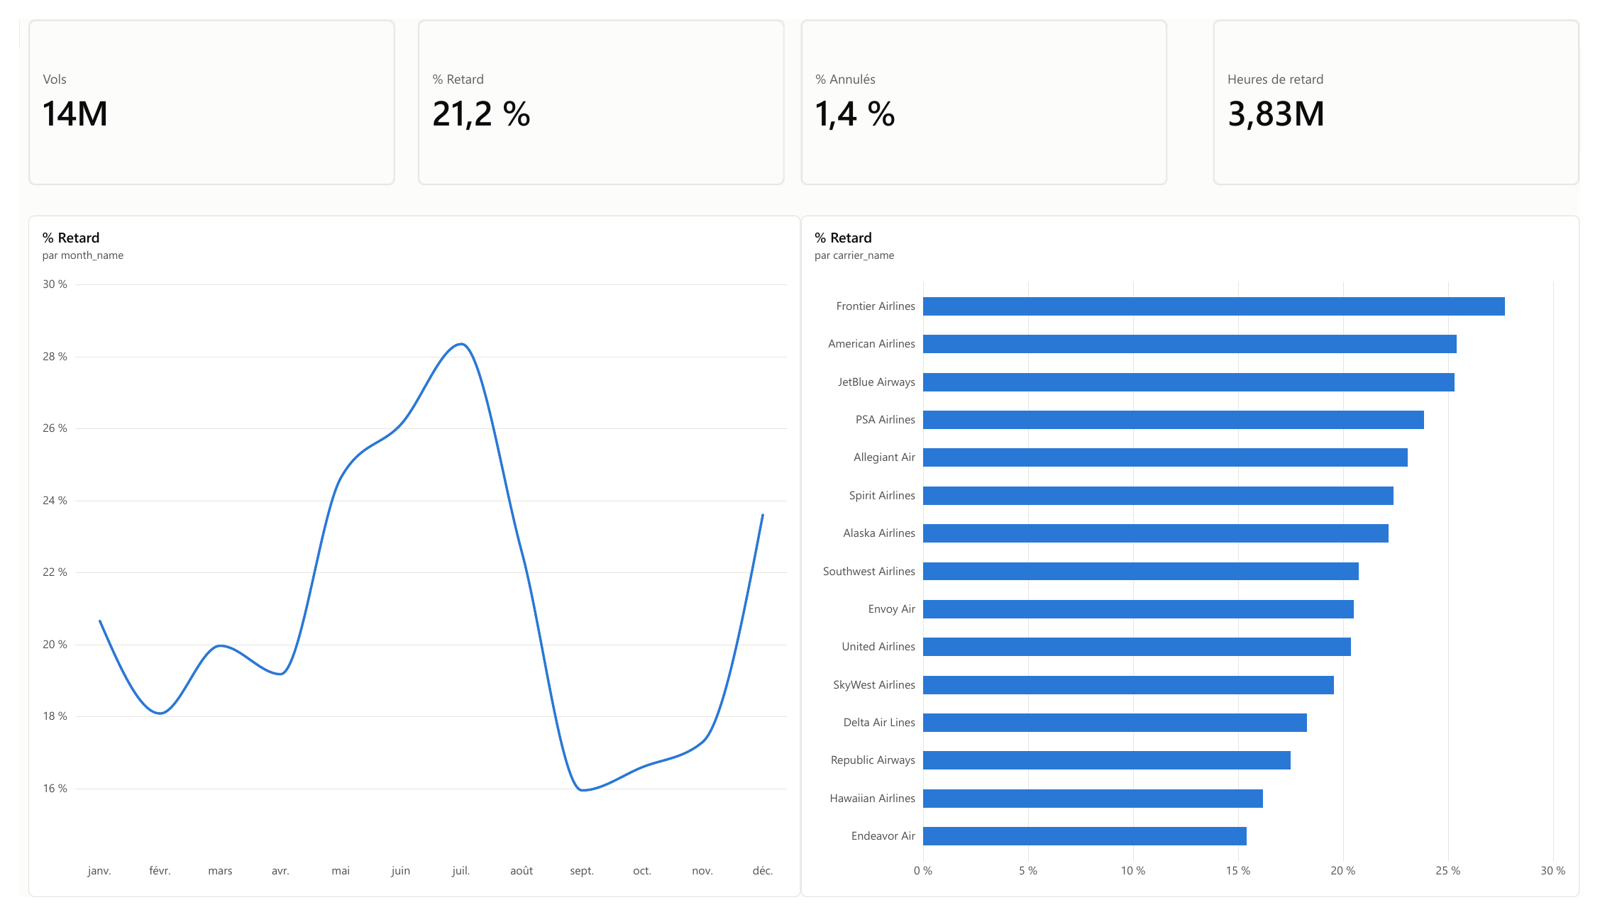

What the dashboard file says about the page in this screenshot:
{"tool":"powerbi","page":{"name":"Vue d'ensemble","canvas":[1920,1080],"ordinal":0},"visuals":[{"type":"cardVisual","fields":{"Data":["fact_flights.Vols"]},"box":[11.3,0,450.7,204.1],"z":0},{"type":"cardVisual","fields":{"Data":["fact_flights.% Retard"]},"box":[490.4,0,451,204],"z":1},{"type":"cardVisual","fields":{"Data":["fact_flights.% Annulés"]},"box":[961,0,451,204],"z":2},{"type":"cardVisual","fields":{"Data":["fact_flights.Heures de retard"]},"box":[1468.4,0,451,204],"z":3},{"type":"lineChart","fields":{"Category":["dim_date.month_name"],"Y":["fact_flights.% Retard"]},"box":[11.3,240.9,949.6,839.1],"z":4},{"type":"clusteredBarChart","fields":{"Category":["dim_carrier.carrier_name"],"Y":["fact_flights.% Retard"]},"box":[961,240.9,958.1,839.1],"z":5}]}

Visuals, with their boxes in screenshot pixels (x1, y1, x2, y2), scaled from the page's 1920x1080 canvas onto the 1600x917 screenshot:
cardVisual - fact_flights.Vols: (left=9, top=0, right=385, bottom=173)
cardVisual - fact_flights.% Retard: (left=409, top=0, right=784, bottom=173)
cardVisual - fact_flights.% Annulés: (left=801, top=0, right=1177, bottom=173)
cardVisual - fact_flights.Heures de retard: (left=1224, top=0, right=1599, bottom=173)
lineChart - dim_date.month_name x fact_flights.% Retard: (left=9, top=205, right=801, bottom=916)
clusteredBarChart - dim_carrier.carrier_name x fact_flights.% Retard: (left=801, top=205, right=1599, bottom=916)
